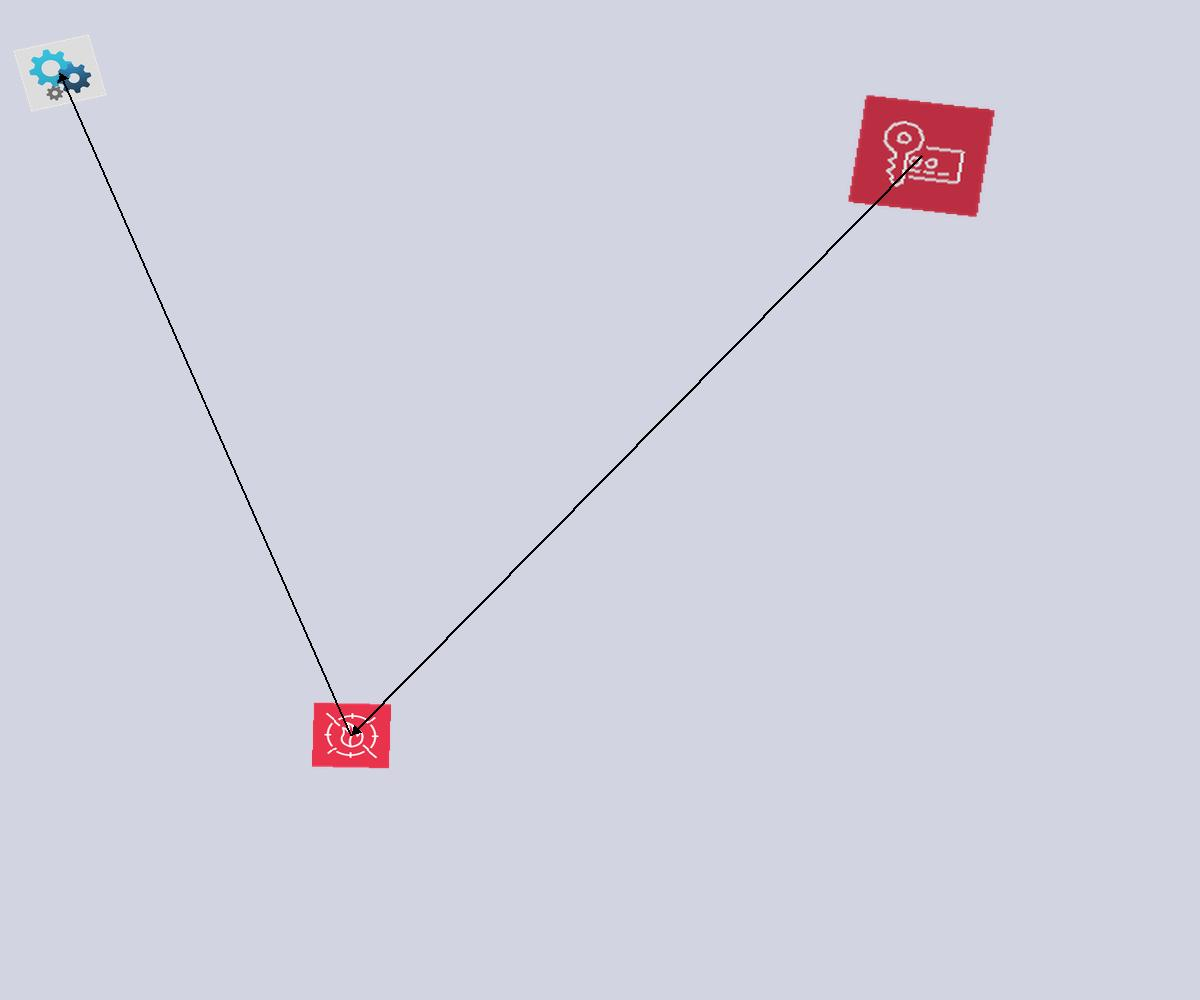AWS-Key-Management-Service: (847, 94, 996, 218)
AWS-WAF: (311, 702, 392, 769)
Azure_api: (13, 34, 107, 112)
